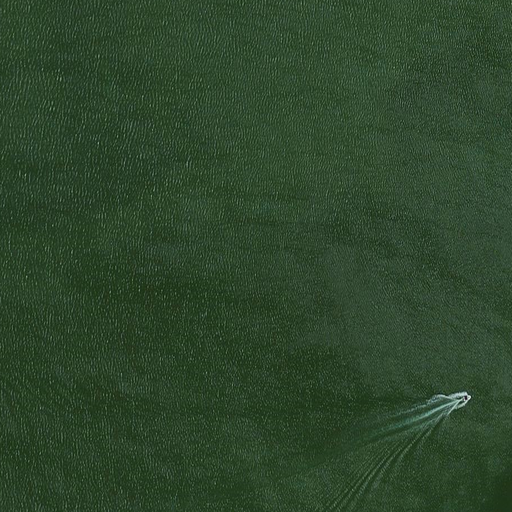ship: (452, 390, 474, 408)
